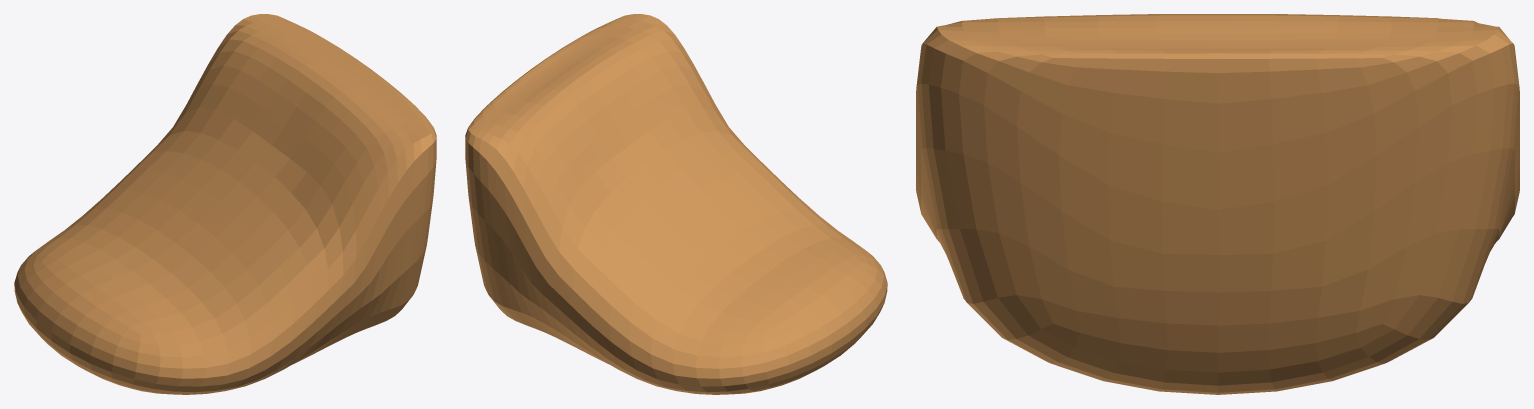
File: SandPatch_ScalableBorder2.fbx
The picture shows the model from 3 angles, left to right: view 1: azimuth 30°, elevation 25°; view 2: azimuth 150°, elevation 25°; view 3: azimuth 270°, elevation 25°; orthographic projection. The views are drawn at different scales.
Parts seen in each view (by area): view 1: SandPatch_ScalableBorder2; view 2: SandPatch_ScalableBorder2; view 3: SandPatch_ScalableBorder2.
Part boxes in pixels (bbox=[...]): SandPatch_ScalableBorder2: bbox=[14, 14, 436, 394]; SandPatch_ScalableBorder2: bbox=[465, 14, 887, 394]; SandPatch_ScalableBorder2: bbox=[916, 14, 1519, 394].
Bounding box in the file's own units: 10.92 × 10.67 × 7.61.
